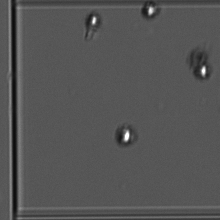Dead Cell: (190, 46, 208, 67)
Living Cell: (113, 123, 137, 147), (142, 1, 161, 18), (194, 63, 212, 80), (86, 11, 101, 29)
